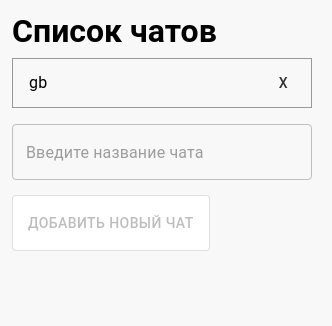
ChatList › add chat
Step 1. Type "new chat" into the field → coordinates (162, 152), box [12,124,312,180]
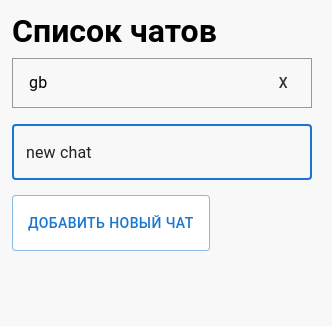
Step 2. Click the button "Добавить новый чат" → coordinates (111, 223), box [12,195,210,251]
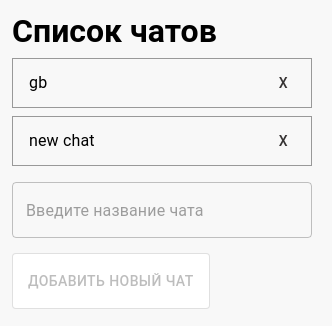
Expected: the text "new chat" is shown, [29,131,95,150]
Expected: the number of list items is 2, [12,58,312,108]; [12,116,312,166]
